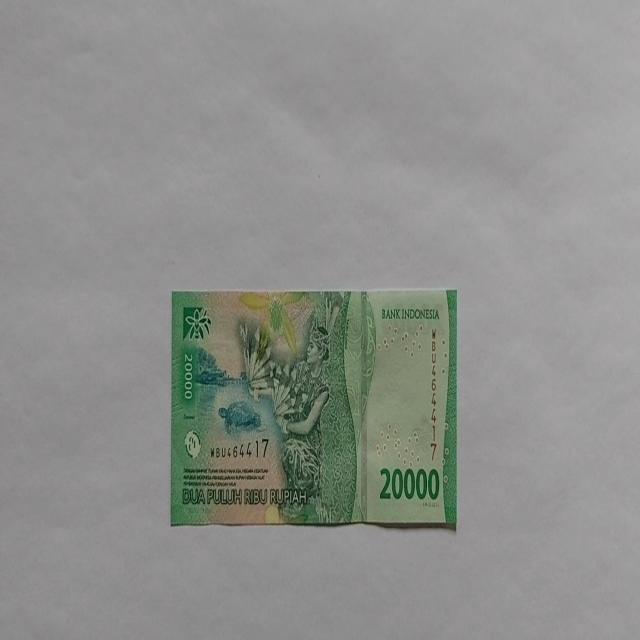dua puluh ribu rupiah: (170, 287, 458, 530), (237, 290, 375, 524)
